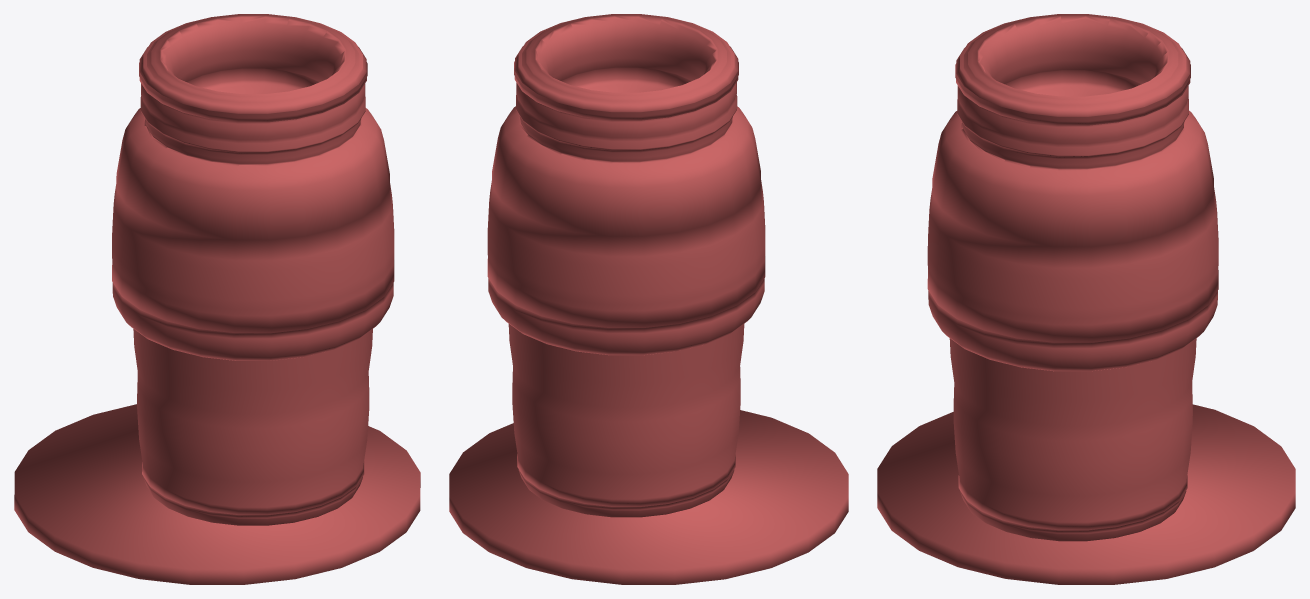
3 renders of one model, left to right at view 1: azimuth 30°, elevation 25°; view 2: azimuth 150°, elevation 25°; view 3: azimuth 270°, elevation 25°, orthographic. The views are drawn at different scales.
Visible parts, largest first — view 1: mesh1_mesh1-geometry, mesh2_mesh2-geometry; view 2: mesh1_mesh1-geometry, mesh2_mesh2-geometry; view 3: mesh1_mesh1-geometry, mesh2_mesh2-geometry.
Boxes of the visible parts, x1,y1,x2,y2 form: mesh1_mesh1-geometry: (112, 14, 394, 525); mesh2_mesh2-geometry: (14, 404, 420, 584); mesh1_mesh1-geometry: (487, 14, 765, 517); mesh2_mesh2-geometry: (449, 410, 848, 584); mesh1_mesh1-geometry: (927, 14, 1218, 541); mesh2_mesh2-geometry: (877, 404, 1295, 584).
Size of the model in its own units: 0.539 by 0.6473 by 0.539.
